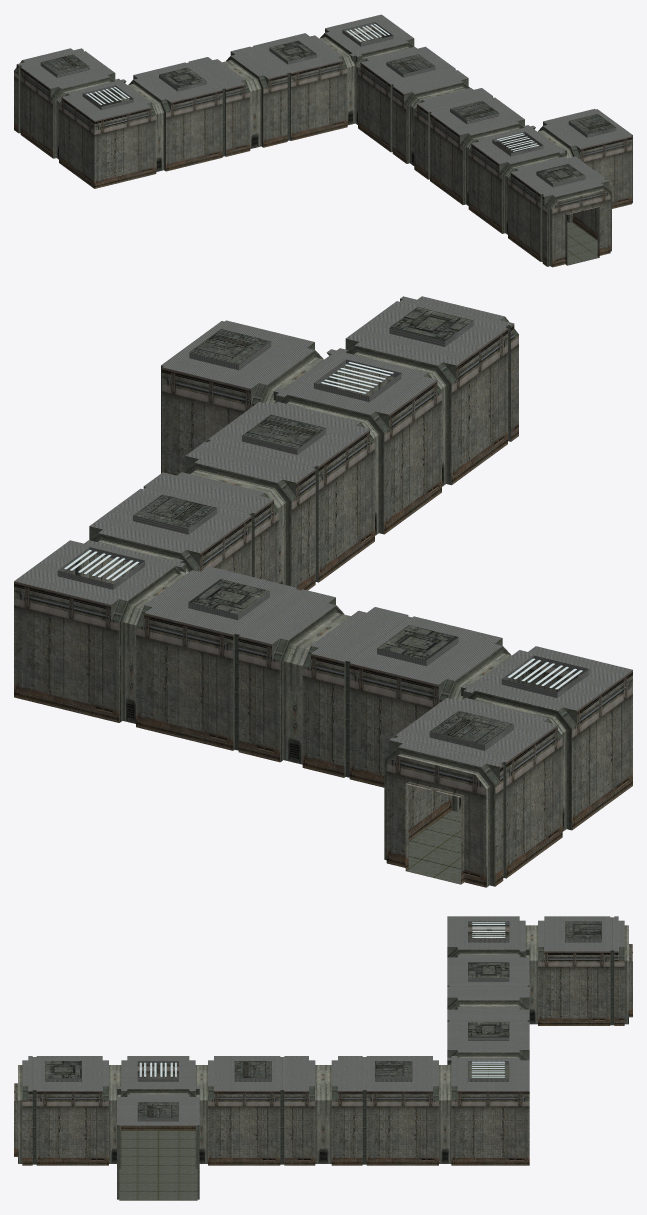
The model's file is poi_all_impl_bunker_crimelord_retreat_s01_r9_hallway04_mesh_r9.fbx.
The picture shows the model from 3 angles, top to bottom: view 1: azimuth 30°, elevation 25°; view 2: azimuth 150°, elevation 25°; view 3: azimuth 270°, elevation 25°; orthographic projection. The views are drawn at different scales.
Visible parts, largest first — view 1: mesh_node; view 2: mesh_node; view 3: mesh_node.
Boxes of the visible parts, x1=… form: mesh_node: x1=14, y1=14, x2=632, y2=267; mesh_node: x1=14, y1=296, x2=632, y2=887; mesh_node: x1=14, y1=916, x2=632, y2=1200.
Bounding box in the file's own units: 24 × 4.2 × 30.
